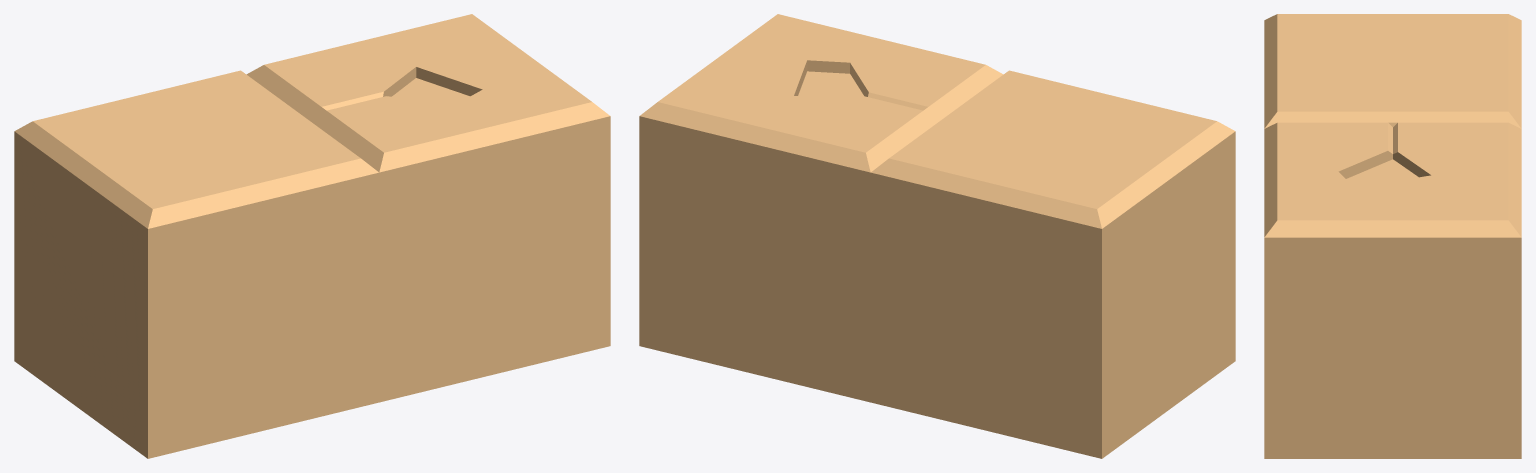
The model's file is 2x1 Floor.fbx.
3 views of the same model, side by side, from view 1: azimuth 30°, elevation 25°; view 2: azimuth 150°, elevation 25°; view 3: azimuth 270°, elevation 25° (orthographic). The views are drawn at different scales.
Parts seen in each view (by area): view 1: Cube; view 2: Cube; view 3: Cube.
Boxes of the visible parts, x1,y1,x2,y2 form: Cube: (14, 14, 610, 458); Cube: (639, 14, 1235, 458); Cube: (1264, 14, 1521, 458).
Size of the model in its own units: 200 by 100 by 100.
